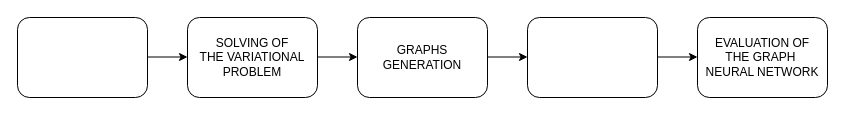
Some shapes in this 845 by 115 pixel diagram are drawn without their labels. Each missing label, with the box of its shape:
GRAPH NEURAL NETWORK TRAINING: (526, 16, 658, 98)
MESH CREATION: (16, 16, 148, 98)
